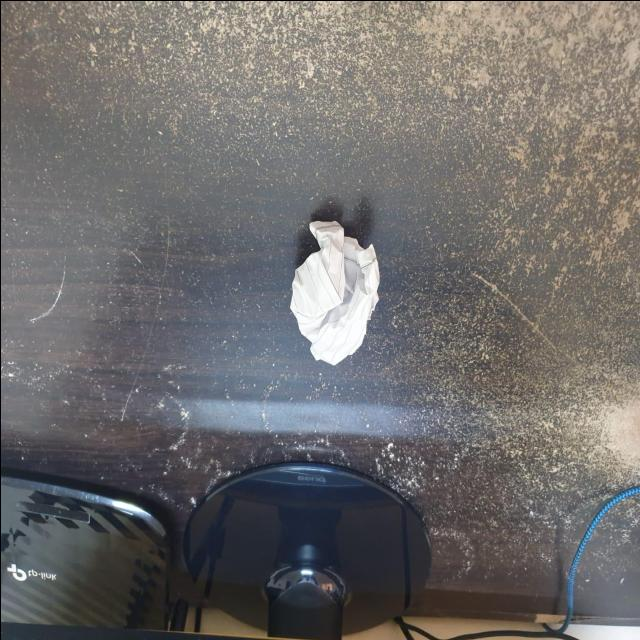kertas: (288, 216, 382, 366)
